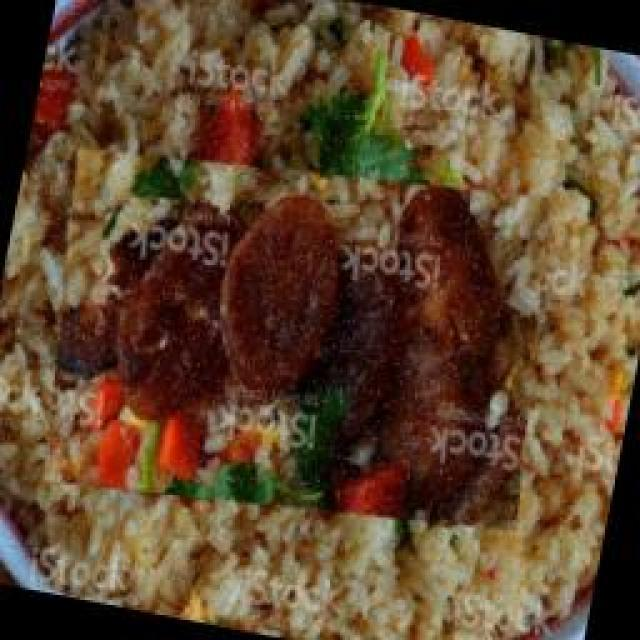chinese_sausage: (12, 108, 580, 573)
